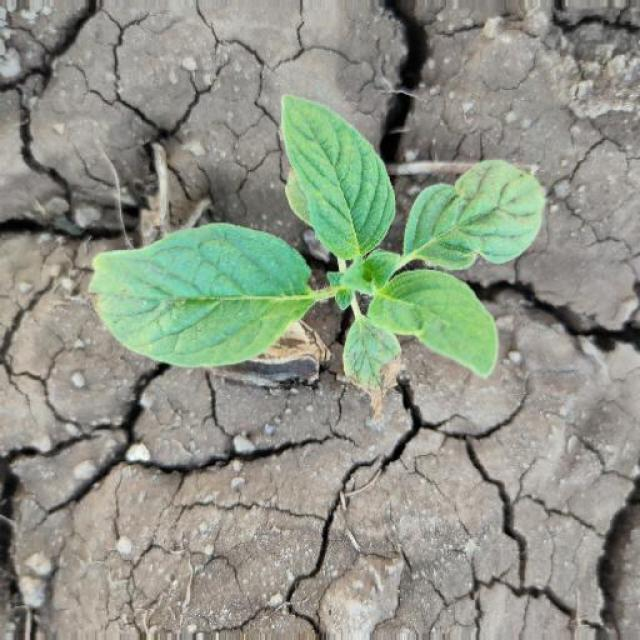crop: (83, 98, 558, 400)
